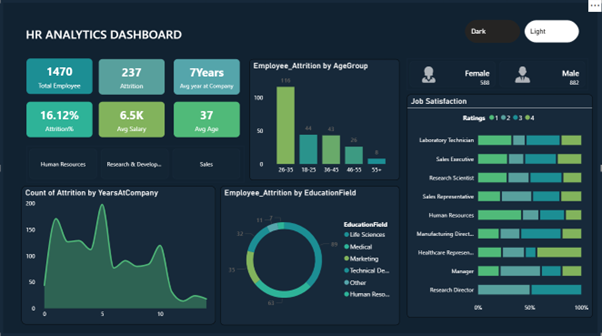

The page's visual inventory and layout, read from the dashboard file:
{"tool":"powerbi","page":{"name":"Page 1","canvas":[1280,720],"ordinal":0},"visuals":[{"type":"shape","box":[0,0,1280,720.2],"z":0},{"type":"image","box":[1086.8,140,48,43.9],"z":1000},{"type":"image","box":[887.8,140,49.4,43.9],"z":2000},{"type":"card","fields":{"Values":["HR_Analytics.Employee_Attrition"]},"box":[212.7,129,140,75],"z":3000},{"type":"card","fields":{"Values":["HR_Analytics.Employee_Count"]},"box":[59,127.6,140,75],"z":4000},{"type":"card","fields":{"Values":["HR_Analytics.Years_With_Text"]},"box":[371.9,129,140,75],"z":5000},{"type":"card","fields":{"Values":["HR_Analytics.Attrition%"]},"box":[59,219.6,140,75.5],"z":6000},{"type":"card","fields":{"Values":["HR_Analytics.Avg_Salary"]},"box":[212.7,219.6,140,75.5],"z":7000},{"type":"card","fields":{"Values":["HR_Analytics.Avg_Age"]},"box":[371.9,219.6,140,75.5],"z":8000},{"type":"areaChart","fields":{"Y":["CountNonNull(HR_Analytics.Attrition)"],"Category":["HR_Analytics.YearsAtCompany"]},"box":[48,397.9,411.7,293.7],"z":9000},{"type":"donutChart","fields":{"Y":["HR_Analytics.Employee_Attrition"],"Category":["HR_Analytics.EducationField"]},"box":[470.7,397.9,380.1,295],"z":10000},{"type":"clusteredColumnChart","fields":{"Category":["HR_Analytics.AgeGroup"],"Y":["HR_Analytics.Employee_Attrition"]},"box":[532.4,129,318.4,256.6],"z":11000},{"type":"hundredPercentStackedBarChart","title":"Job Satisfaction","fields":{"Y":["HR_Analytics.Employee_Attrition"],"Series":["HR_Analytics.JobSatisfaction"],"Category":["HR_Analytics.JobRole"]},"box":[865.9,204.5,393.8,473.4],"z":12000},{"type":"advancedSlicerVisual","fields":{"Values":["HR_Analytics.Gender"]},"box":[865.9,127.6,384.2,67.2],"z":13000},{"type":"advancedSlicerVisual","fields":{"Values":["HR_Analytics.Department"]},"box":[59,314.2,462.4,76.8],"z":14000},{"type":"advancedSlicerVisual","fields":{"Values":["Dark_Mode.Mode"]},"box":[984.5,41,253.4,59.1],"z":15000},{"type":"shape","box":[58.2,41.1,540.7,68.4],"z":16000}]}

Visuals, with their boxes in screenshot pixels (x1, y1, x2, y2), scaled from the page's 1280x720 canvas onto the 602x336 screenshot:
shape: 0,0,601,335
image: 511,65,534,86
image: 418,65,441,86
card - HR_Analytics.Employee_Attrition: 100,60,166,95
card - HR_Analytics.Employee_Count: 28,60,94,95
card - HR_Analytics.Years_With_Text: 175,60,241,95
card - HR_Analytics.Attrition%: 28,102,94,138
card - HR_Analytics.Avg_Salary: 100,102,166,138
card - HR_Analytics.Avg_Age: 175,102,241,138
areaChart - CountNonNull(HR_Analytics.Attrition) x HR_Analytics.YearsAtCompany: 23,186,216,323
donutChart - HR_Analytics.Employee_Attrition x HR_Analytics.EducationField: 221,186,400,323
clusteredColumnChart - HR_Analytics.AgeGroup x HR_Analytics.Employee_Attrition: 250,60,400,180
"Job Satisfaction" hundredPercentStackedBarChart: 407,95,592,316
advancedSlicerVisual - HR_Analytics.Gender: 407,60,588,91
advancedSlicerVisual - HR_Analytics.Department: 28,147,245,182
advancedSlicerVisual - Dark_Mode.Mode: 463,19,582,47
shape: 27,19,282,51
